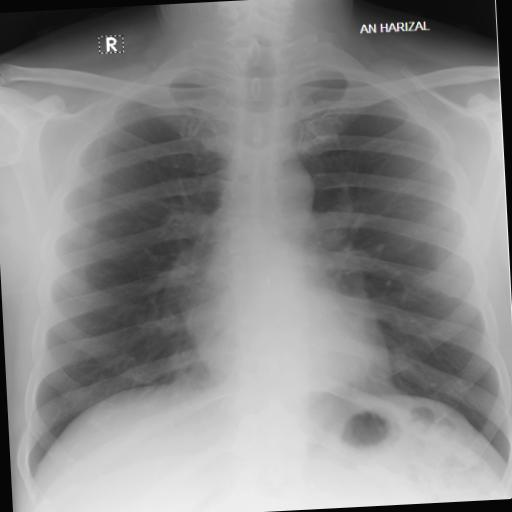normal: (1, 30, 512, 499)
